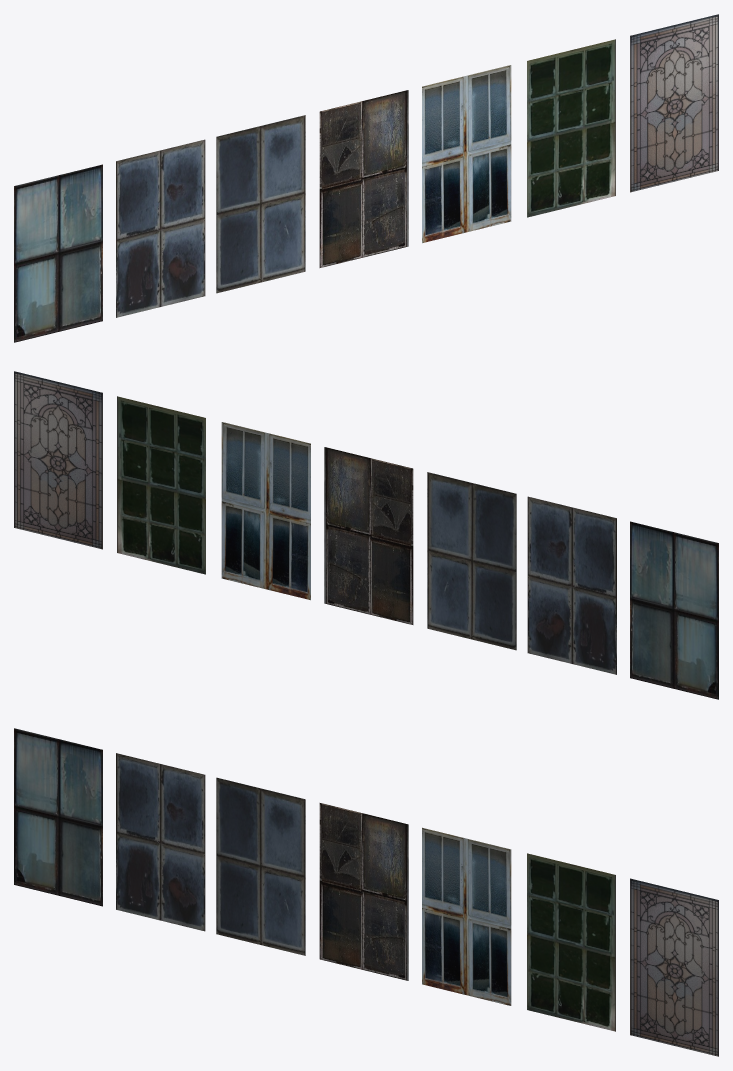
Rendered from windows.fbx.
3 renders of one model, top to bottom at view 1: azimuth 30°, elevation 25°; view 2: azimuth 150°, elevation 25°; view 3: azimuth 330°, elevation 25°, orthographic.
Visible parts, largest first — view 1: window5, window3, window6, window4, window1, window7, window2; view 2: window5, window3, window6, window4, window1, window7, window2; view 3: window5, window3, window6, window4, window1, window7, window2.
Boxes of the visible parts, bbox=[...] form: window5: bbox=[216, 115, 305, 293]; window3: bbox=[422, 65, 511, 243]; window6: bbox=[116, 139, 205, 317]; window4: bbox=[319, 90, 408, 267]; window1: bbox=[630, 14, 718, 192]; window7: bbox=[14, 164, 102, 342]; window2: bbox=[527, 39, 615, 217]; window5: bbox=[427, 472, 516, 650]; window3: bbox=[221, 422, 310, 600]; window6: bbox=[527, 496, 616, 674]; window4: bbox=[324, 447, 413, 624]; window1: bbox=[14, 371, 102, 549]; window7: bbox=[630, 521, 718, 699]; window2: bbox=[117, 396, 205, 574]; window5: bbox=[216, 777, 305, 955]; window3: bbox=[422, 827, 511, 1005]; window6: bbox=[116, 753, 205, 931]; window4: bbox=[319, 803, 408, 980]; window1: bbox=[630, 878, 718, 1056]; window7: bbox=[14, 728, 102, 906]; window2: bbox=[527, 853, 615, 1031].
Size of the model in its own units: 685 by 0 by 146.
